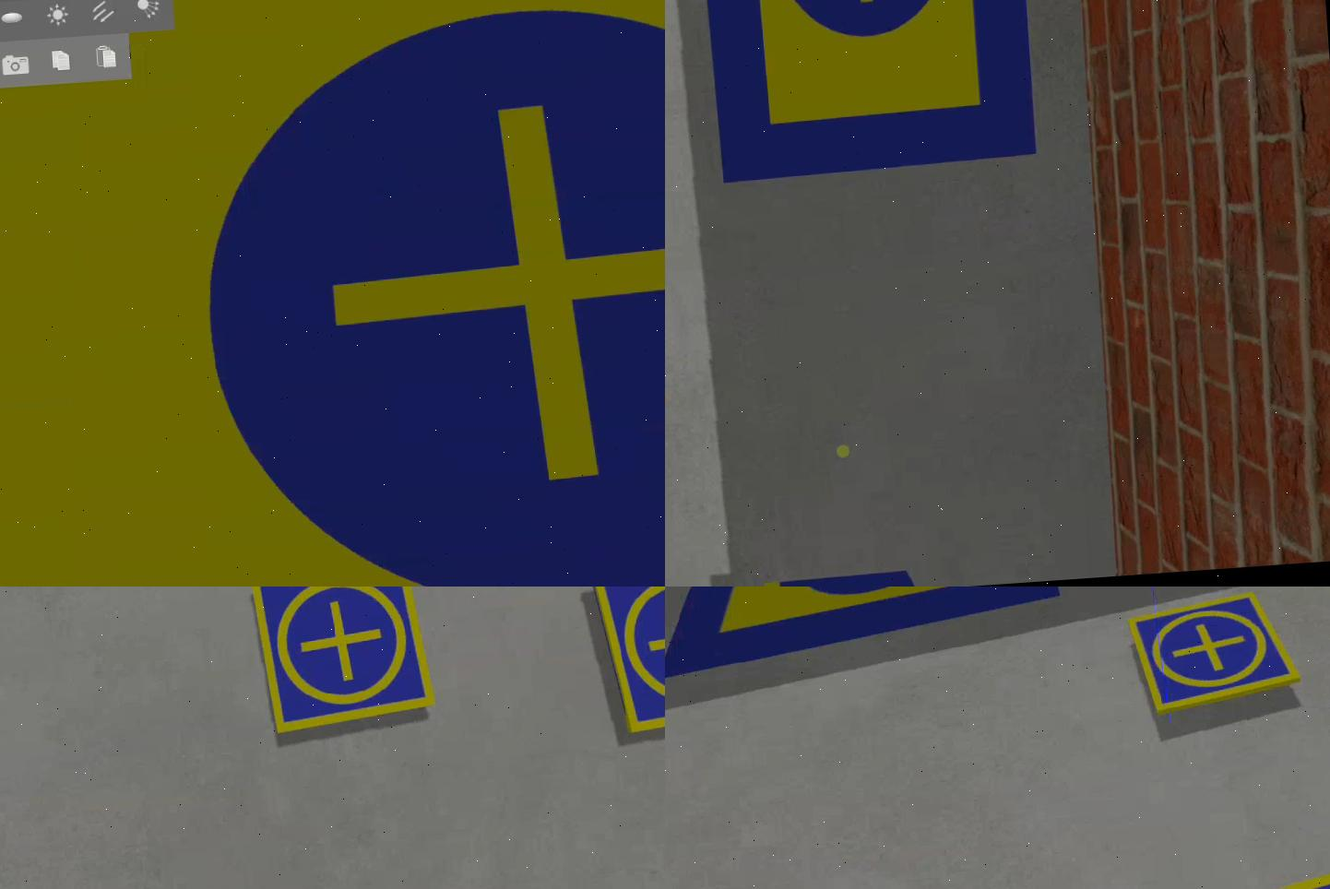large_base: (1, 1, 666, 587), (696, 1, 1040, 186), (666, 587, 1069, 680)
small_base: (249, 587, 440, 739), (1127, 590, 1304, 717), (591, 587, 666, 737)
